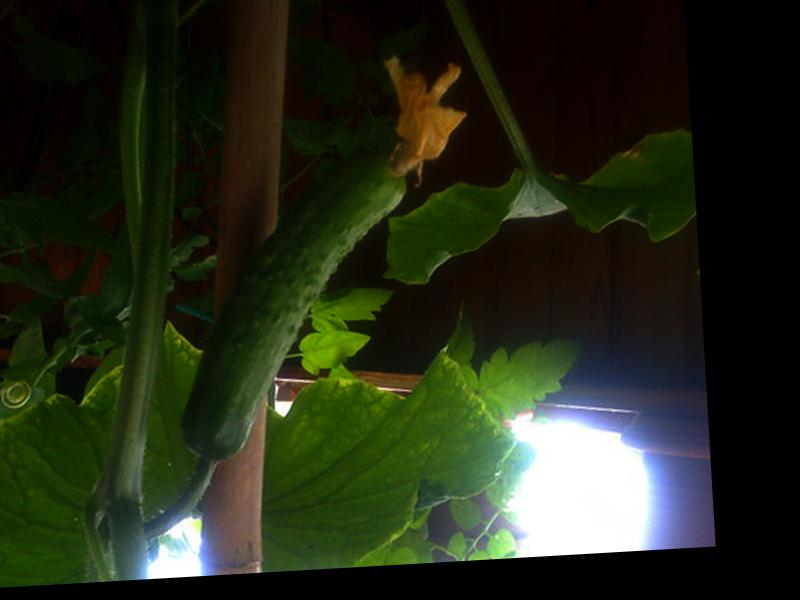Cucumber: (162, 50, 489, 461)
